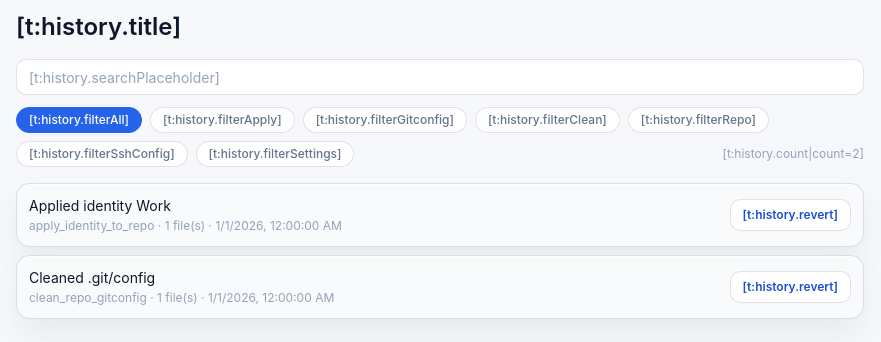
HistoryView › filters by group chip and shows noMatches when nothing matches
Expected: the text "Applied identity Work" is shown, top-left (29, 197), bottom-right (171, 214)
What coordinates should you click on to do the following:
click the button "[t:history.filterClean]"
I would click on:
 (547, 120)
Its box is top-left (475, 107), bottom-right (620, 133).
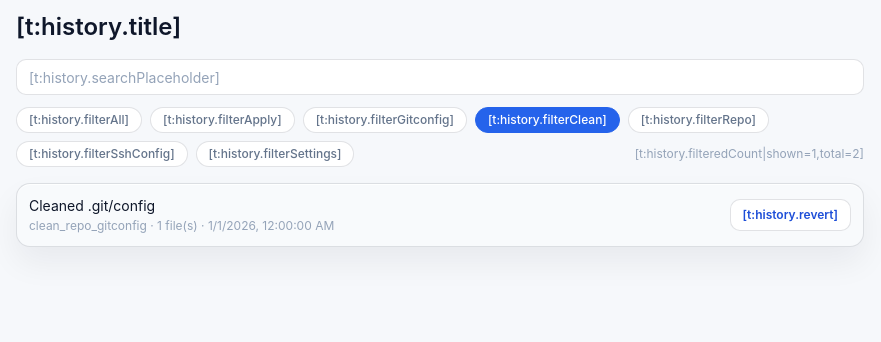
Expected: the text "Cleaned .git/config" is shown, top-left (29, 197), bottom-right (155, 214)
Result: the text "Applied identity Work" is gone
// Now switch to a group with no entries
What coordinates should you click on to do the following:
click the button "[t:history.filterSettings]"
I would click on:
 (275, 154)
Its box is top-left (196, 141), bottom-right (354, 167).
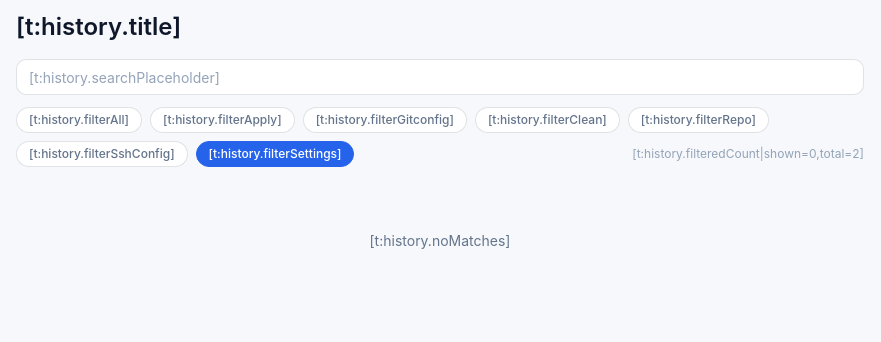
Result: the text "[t:history.noMatches]" is shown at top-left (370, 232), bottom-right (510, 249)
// Switch back to All
What coordinates should you click on to do the following:
click the button "[t:history.filterAll]"
I would click on:
 (79, 120)
Its box is top-left (16, 107), bottom-right (142, 133).
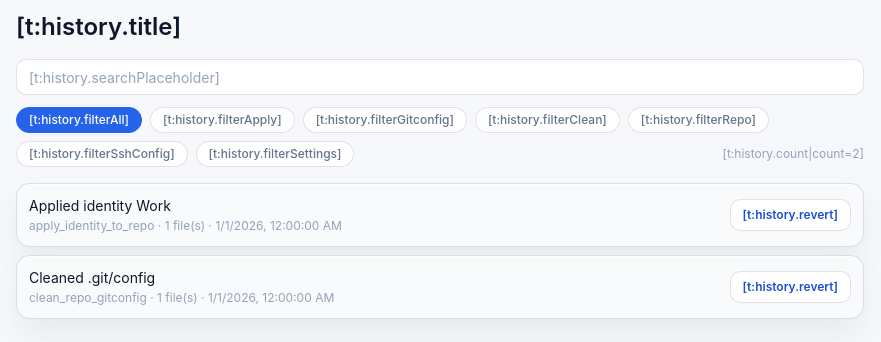
Result: the text "Applied identity Work" is shown at top-left (29, 197), bottom-right (171, 214)
